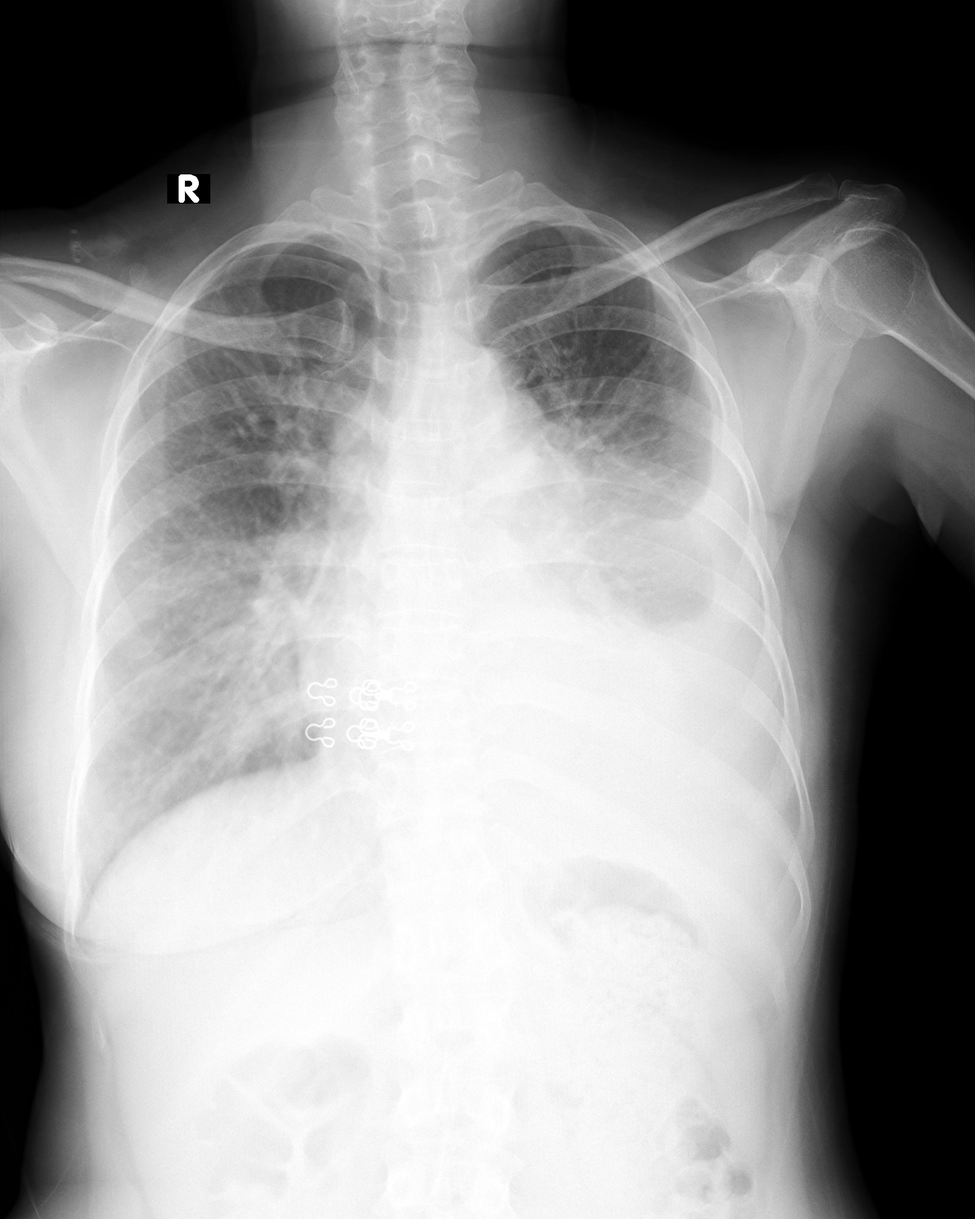Aortic enlargement: (425, 345, 543, 500)
Cardiomegaly: (296, 626, 687, 758)
